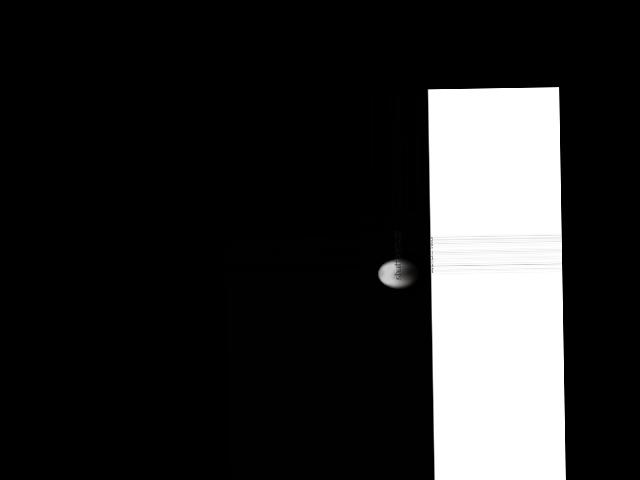egg: (377, 258, 419, 289)
